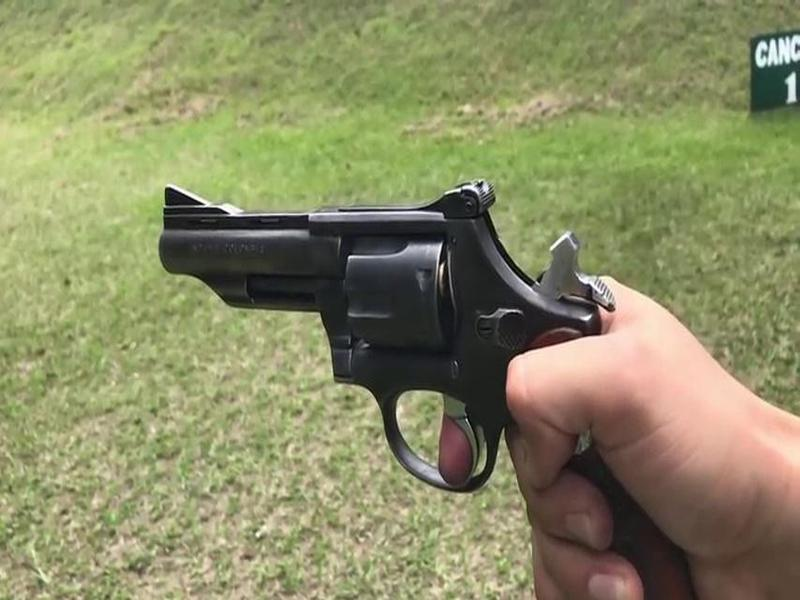Revolver: (127, 160, 617, 501)
